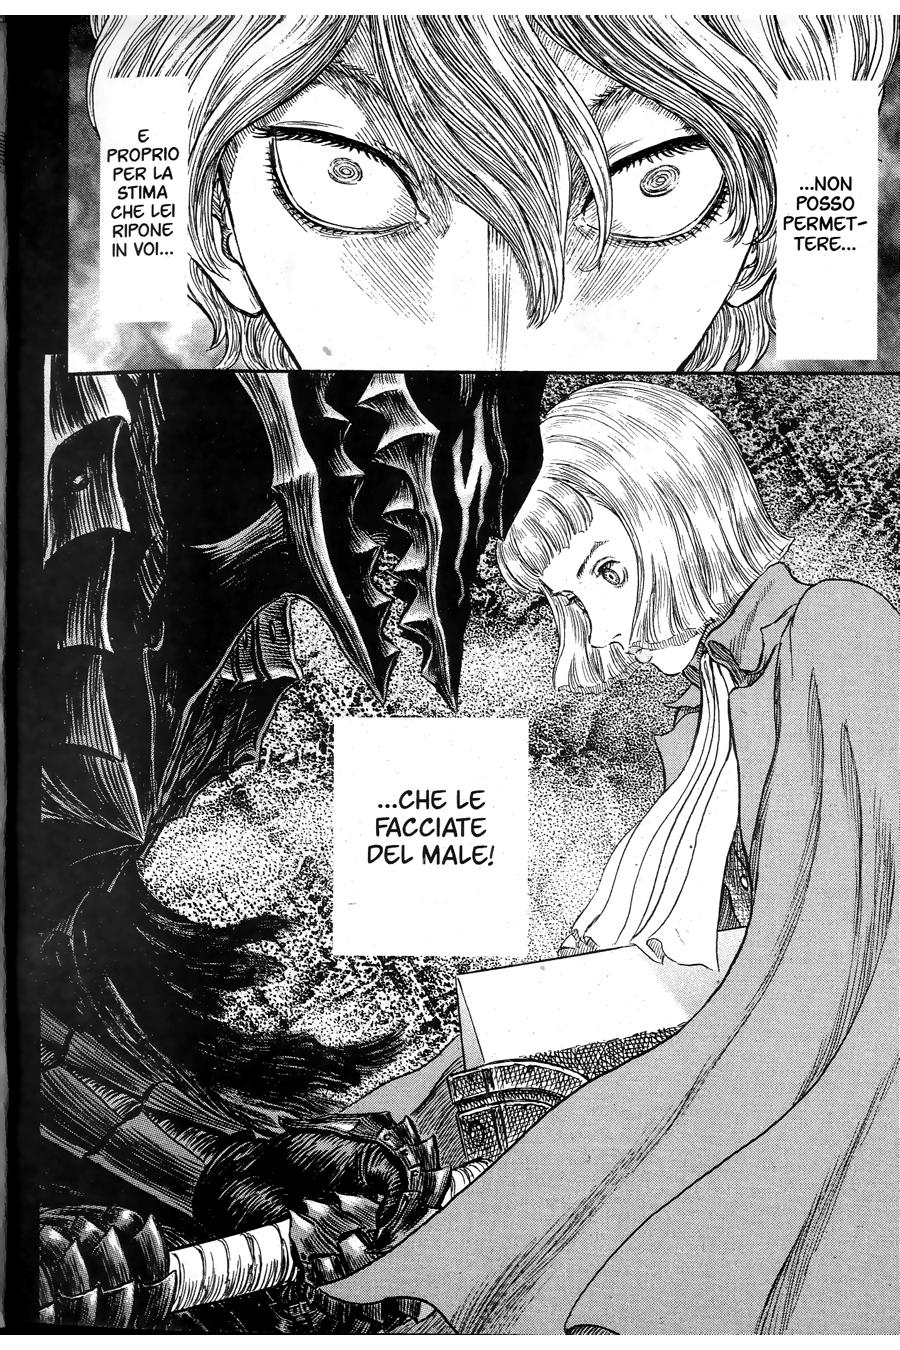Baloon: (334, 719, 528, 960), (775, 83, 881, 360), (100, 75, 198, 323)
Vignetta: (44, 375, 899, 1331), (67, 17, 899, 367)
